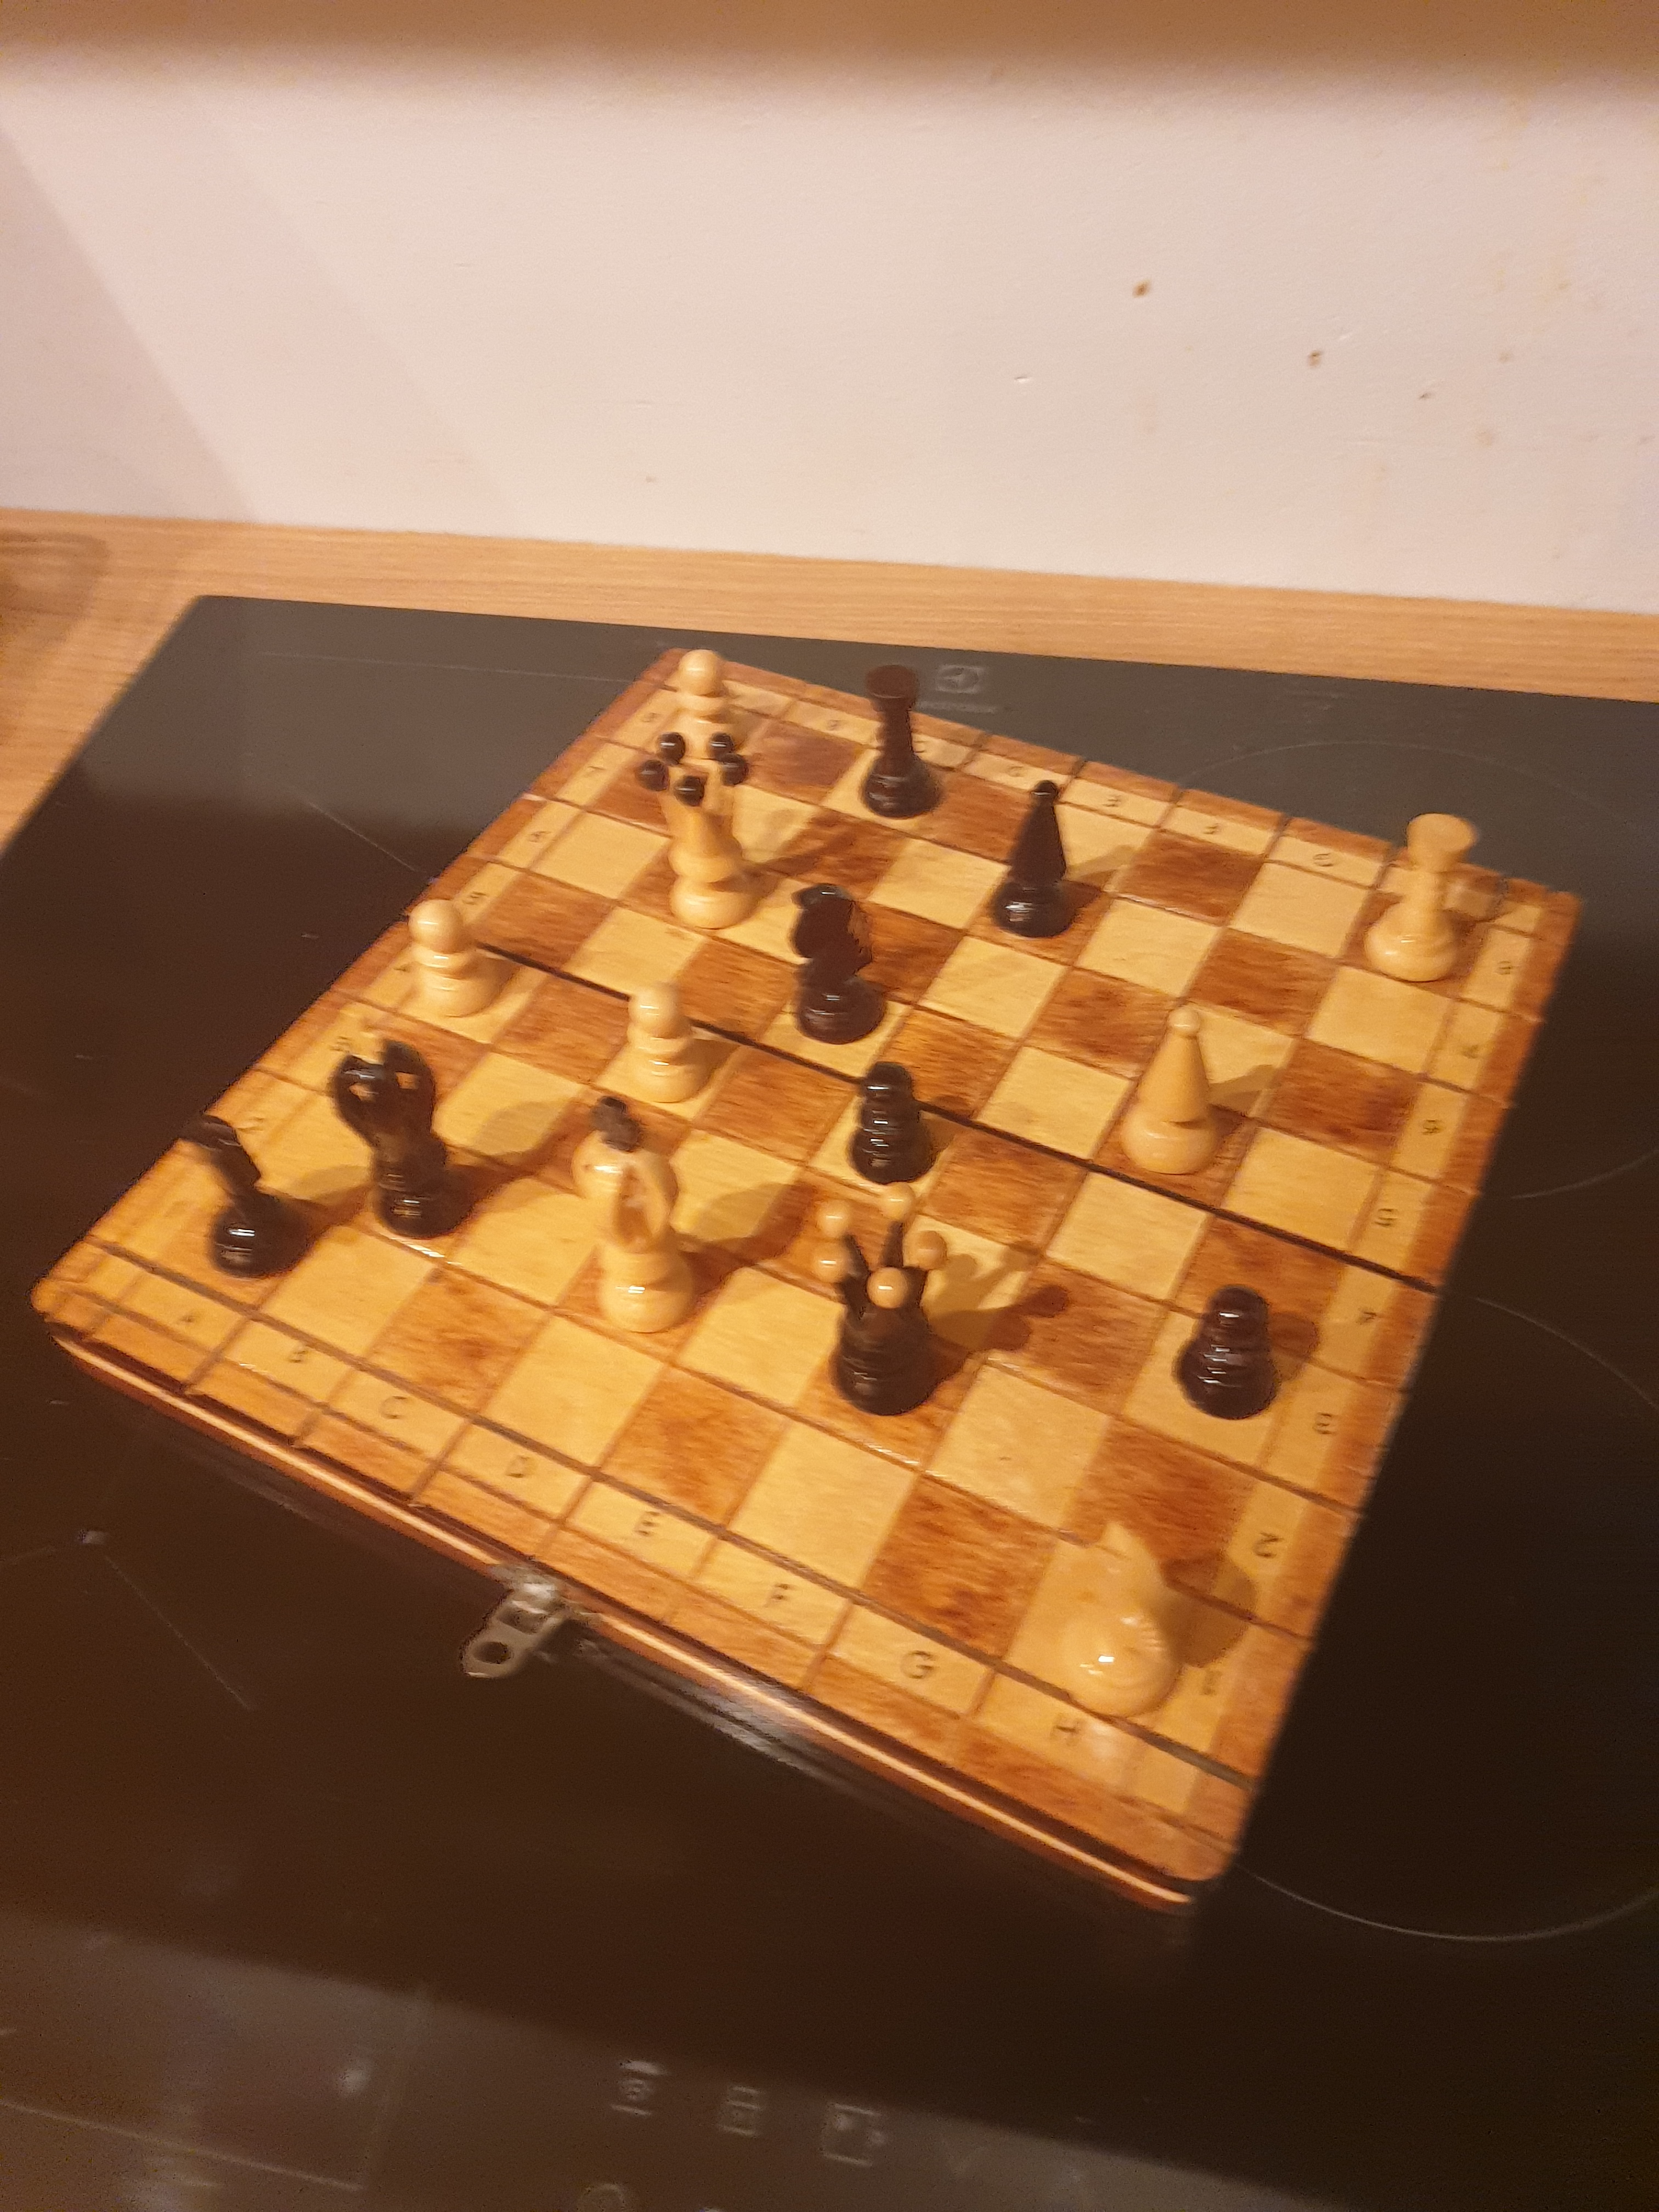bbishop: (986, 772, 1091, 949)
bking: (317, 995, 498, 1268)
bknight: (164, 1097, 317, 1291), (775, 873, 901, 1057)
bpawn: (1166, 1275, 1290, 1428), (835, 1054, 946, 1202)
bqueen: (803, 1167, 969, 1425)
brook: (842, 648, 951, 841)
wbishop: (1110, 993, 1239, 1191)
wking: (566, 1090, 718, 1353)
wknight: (1044, 1501, 1197, 1731)
wpawn: (601, 968, 728, 1120), (390, 883, 511, 1035), (660, 632, 751, 780)
wqueen: (624, 714, 791, 946)
wrook: (1354, 799, 1492, 991)
